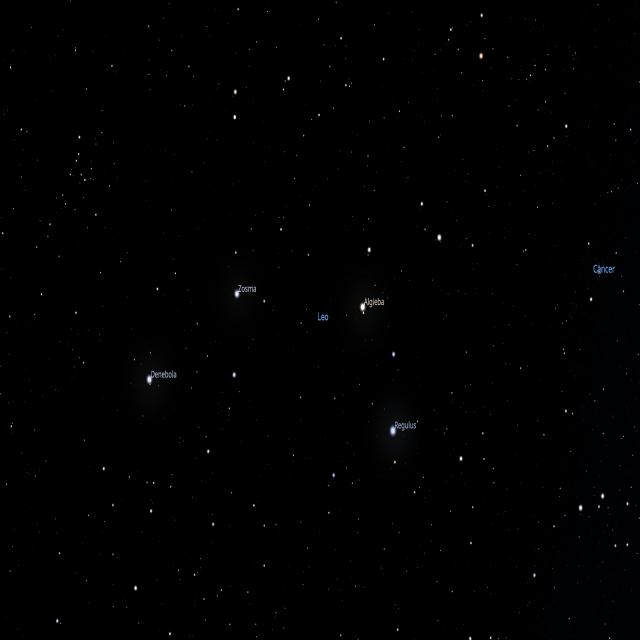Leo: (145, 193, 446, 438)
